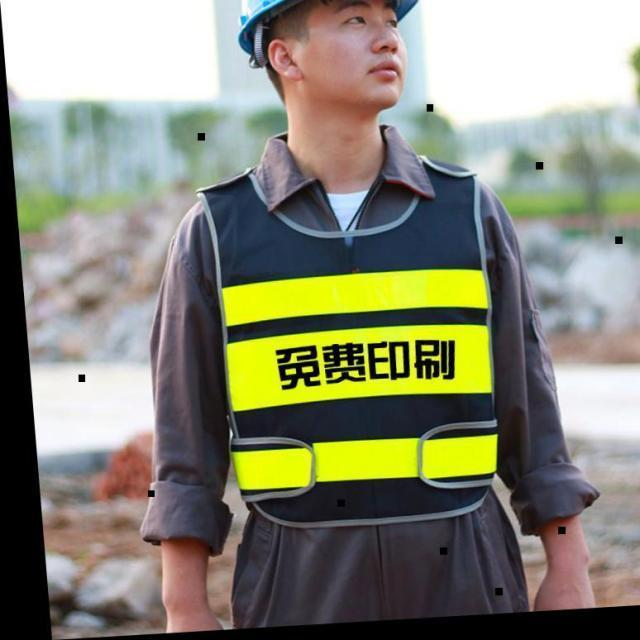safety_helmet: (170, 159, 518, 516)
